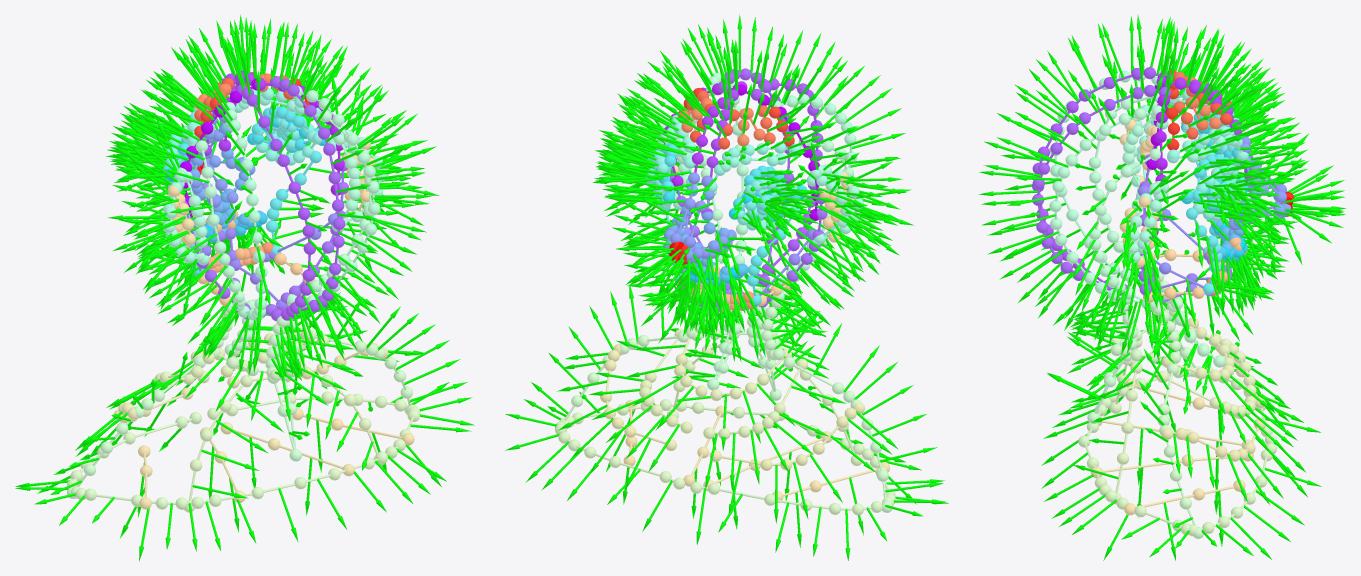
The model's file is author1_bust.gltf.
3 renders of one model, left to right at view 1: azimuth 30°, elevation 25°; view 2: azimuth 150°, elevation 25°; view 3: azimuth 270°, elevation 25°, orthographic. The views are drawn at different scales.
Bounding box in the file's own units: 0.8067 × 0.8598 × 0.6026.
